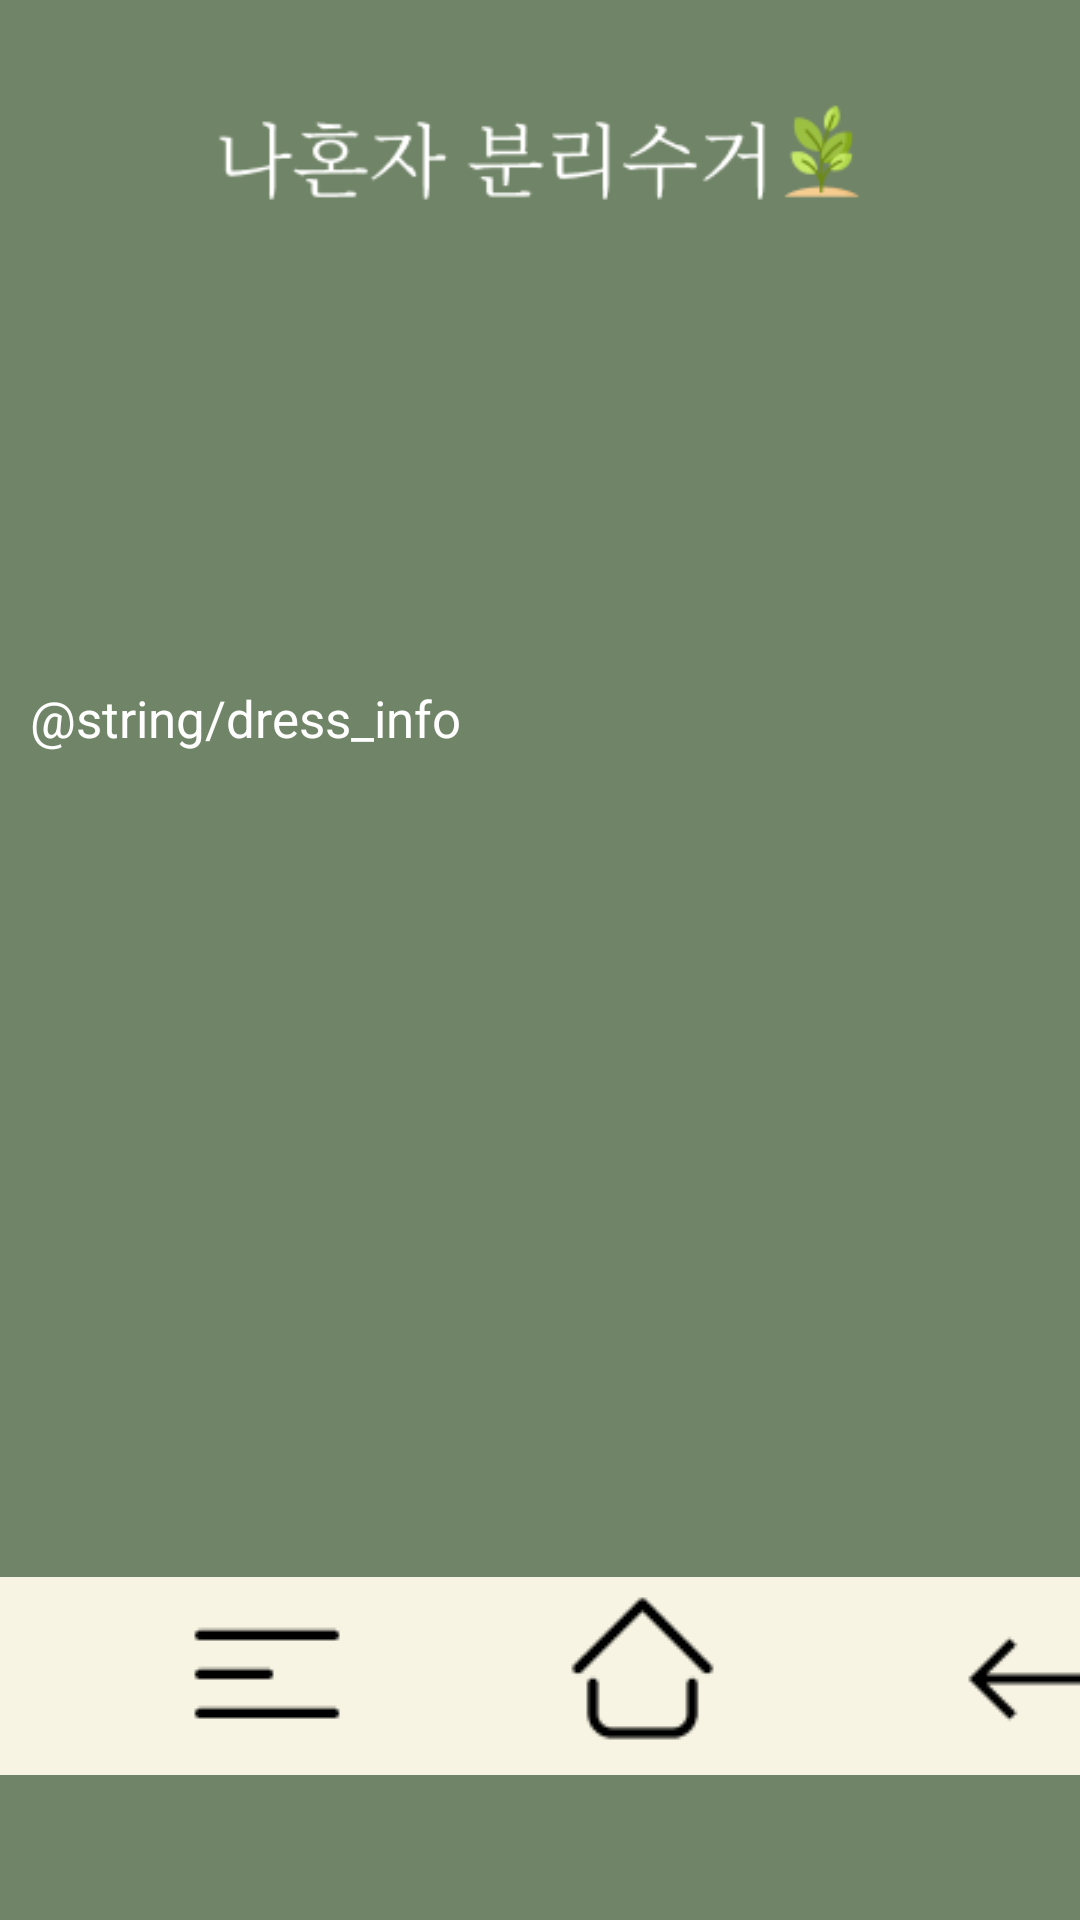

Icons on this 1080w x 1920h Android screen, each with the point to tap as (x,y):
home: (642,1668)
menu: (267,1673)
